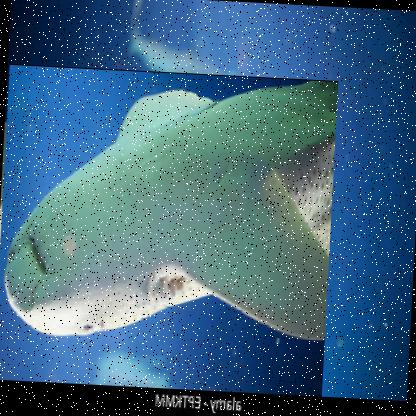zebra_shark: (0, 63, 339, 398)
